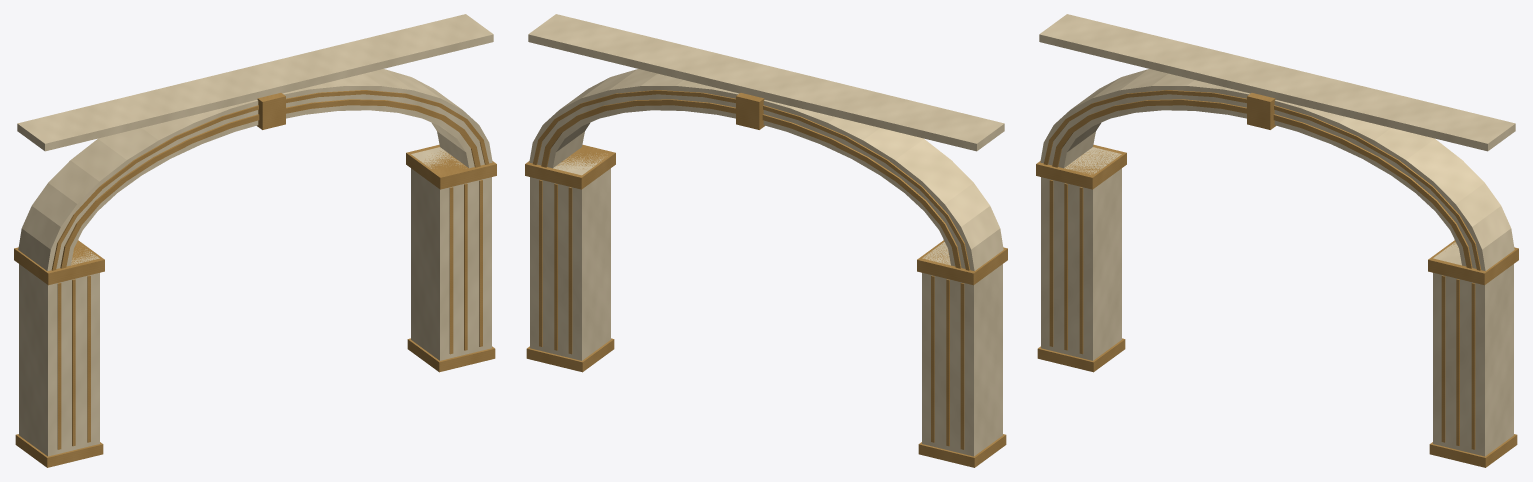
The model's file is SM_Theater_Arch_GalleryLower8.fbx.
3 renders of one model, left to right at view 1: azimuth 30°, elevation 25°; view 2: azimuth 150°, elevation 25°; view 3: azimuth 330°, elevation 25°, orthographic.
Visible parts, largest first — view 1: SM_Theater_Arch_GalleryLower8_LOD0; view 2: SM_Theater_Arch_GalleryLower8_LOD0; view 3: SM_Theater_Arch_GalleryLower8_LOD0.
Part boxes in pixels (bbox=[...]): SM_Theater_Arch_GalleryLower8_LOD0: bbox=[14, 14, 496, 467]; SM_Theater_Arch_GalleryLower8_LOD0: bbox=[525, 14, 1007, 467]; SM_Theater_Arch_GalleryLower8_LOD0: bbox=[1036, 14, 1518, 467].
Size of what is drawn, in the model's own units: 8 by 5.52 by 1.16.
